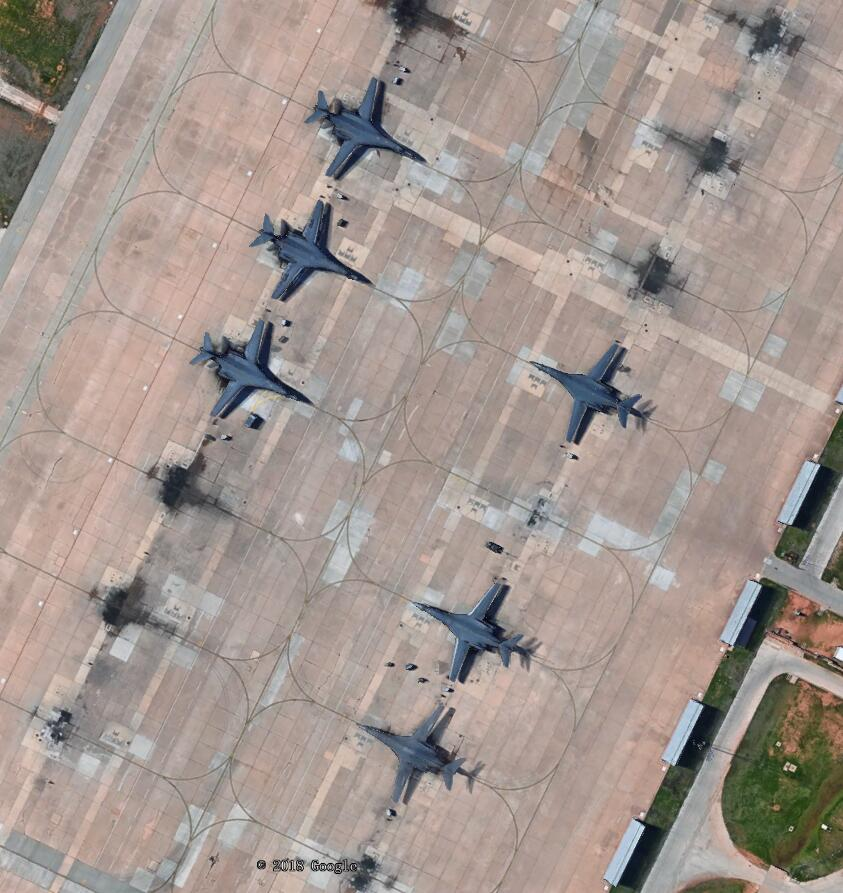A10: (527, 332, 658, 449), (357, 700, 496, 806), (301, 75, 430, 184), (248, 199, 379, 305), (190, 319, 321, 423), (418, 575, 544, 683)
